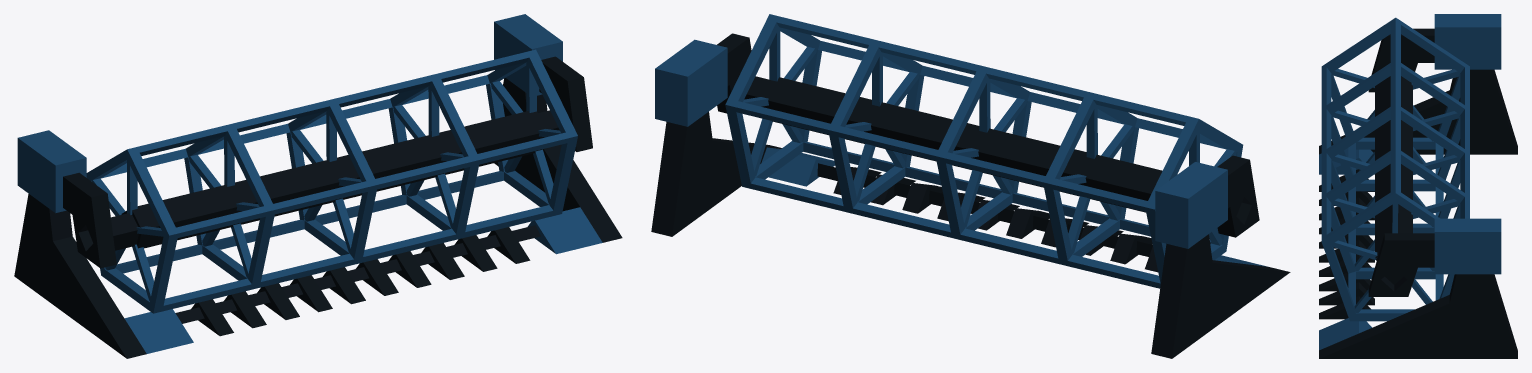
Rendered from Agricultural_Machine_2_1.fbx.
3 renders of one model, left to right at view 1: azimuth 30°, elevation 25°; view 2: azimuth 150°, elevation 25°; view 3: azimuth 270°, elevation 25°, orthographic. The views are drawn at different scales.
Visible parts, largest first — view 1: Agricultural_Machine_2_1; view 2: Agricultural_Machine_2_1; view 3: Agricultural_Machine_2_1.
Part boxes in pixels (x1,y1,x2,y2): Agricultural_Machine_2_1: [14, 14, 622, 358]; Agricultural_Machine_2_1: [651, 14, 1290, 358]; Agricultural_Machine_2_1: [1319, 14, 1517, 358].
Bounding box in the file's own units: 132 × 41.47 × 50.74.
